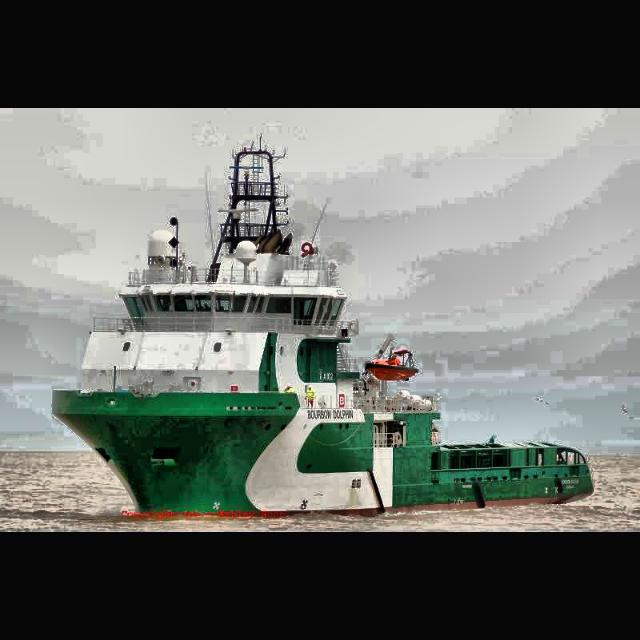anchor_handling_tug_supply: (49, 228, 595, 524)
